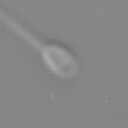normal: (1, 10, 45, 50)
